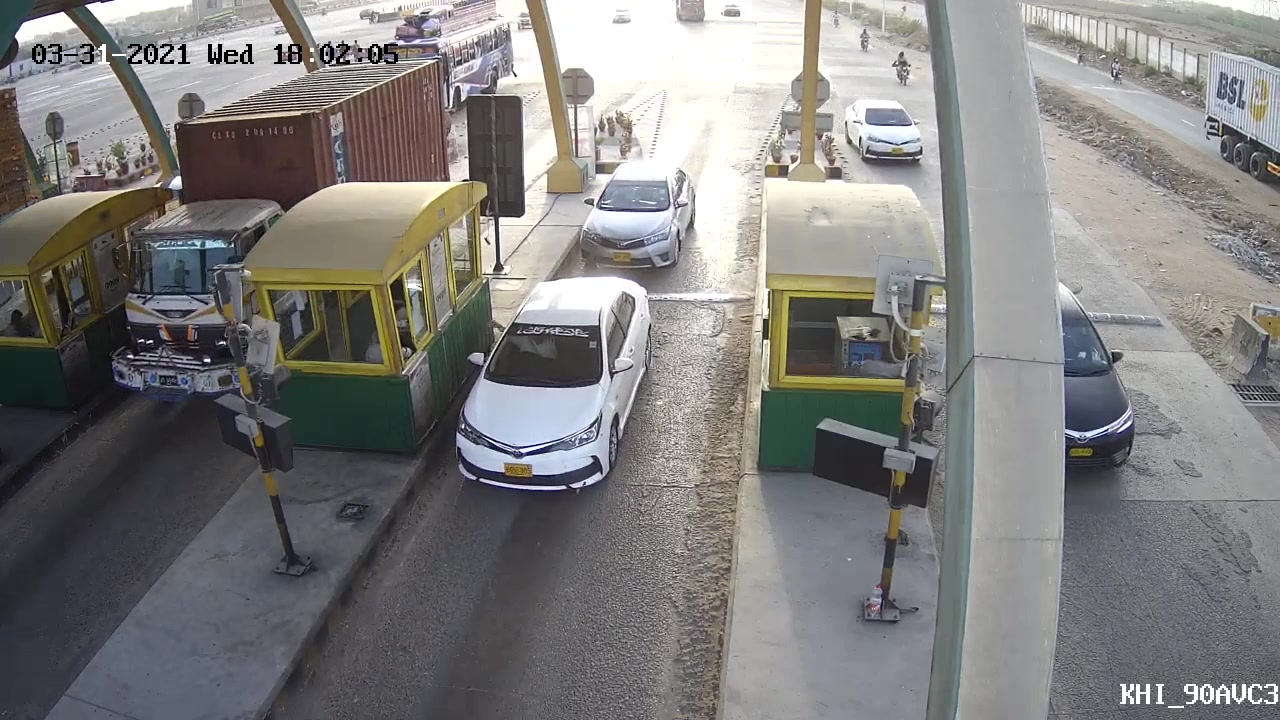F1: (440, 272, 670, 497), (571, 159, 701, 275)
